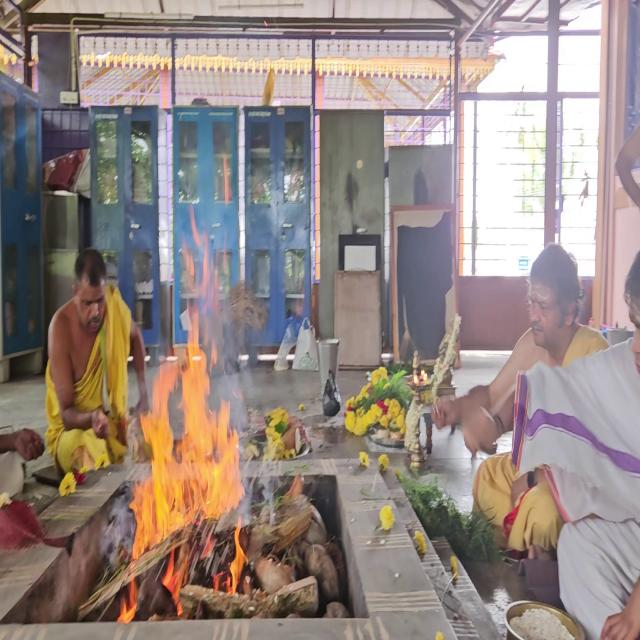fire: (122, 224, 268, 633)
